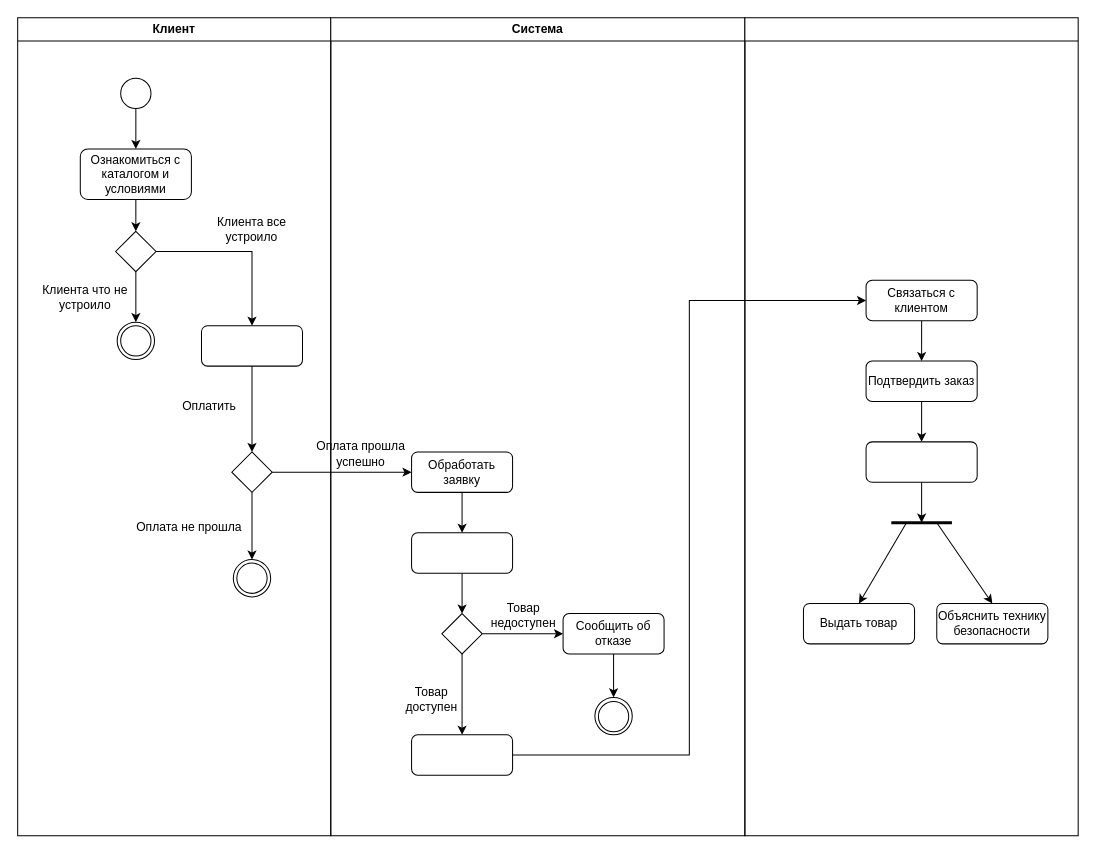
The diagram is 1096 pixels wide and 853 high, and some of its shapes have lost their labels. Here are the shapes that lost their labels. From the top down, the box of each, then its label:
(200, 325, 302, 366): Создать заказ
(744, 17, 1078, 836): Менеджер
(865, 441, 977, 482): Подписать договор
(411, 532, 513, 573): Проверить наличие товара
(411, 734, 513, 775): Забронировать товар
